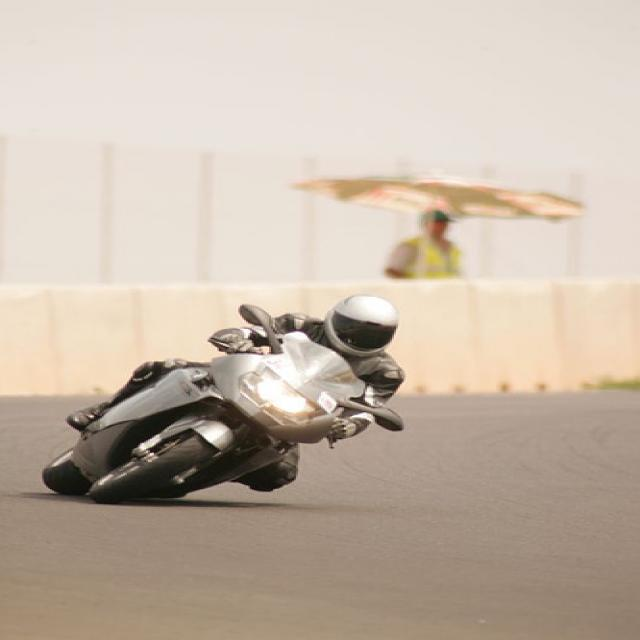Motorbike: (41, 298, 403, 533)
